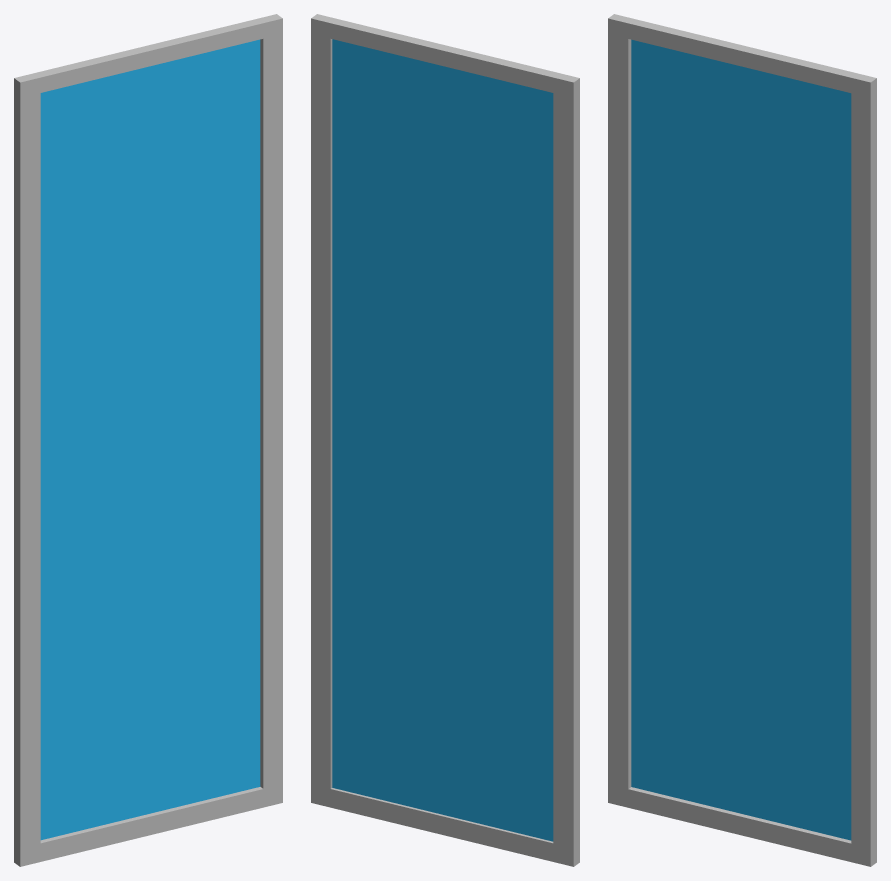
Rendered from sm_1lou_bolimenl.FBX.
3 renders of one model, left to right at view 1: azimuth 30°, elevation 25°; view 2: azimuth 150°, elevation 25°; view 3: azimuth 330°, elevation 25°, orthographic.
Visible parts, largest first — view 1: sm_1lou_bolimenl; view 2: sm_1lou_bolimenl; view 3: sm_1lou_bolimenl.
Boxes of the visible parts, x1=… form: sm_1lou_bolimenl: x1=14, y1=14, x2=282, y2=866; sm_1lou_bolimenl: x1=311, y1=14, x2=579, y2=866; sm_1lou_bolimenl: x1=608, y1=14, x2=876, y2=866.
Size of the model in its own units: 139 by 398 by 5.6.
